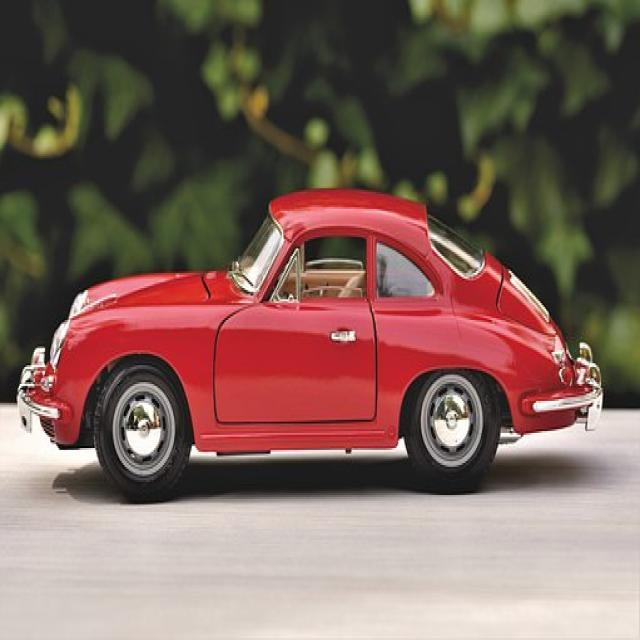Car: (16, 187, 604, 502)
